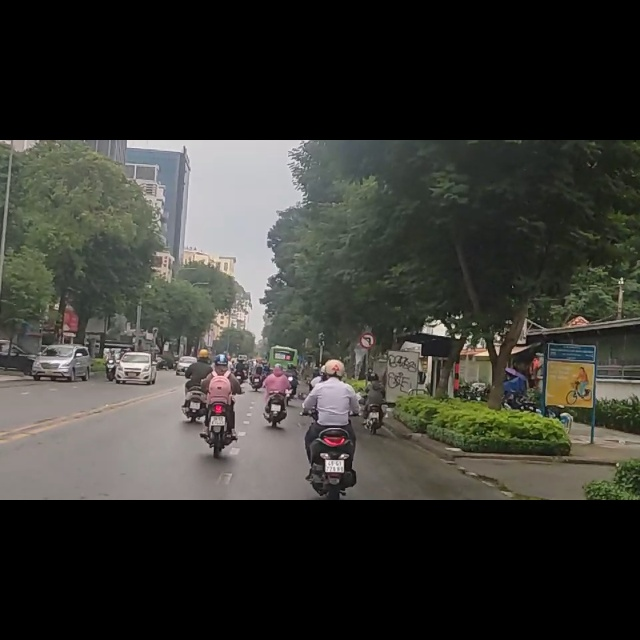bien_cam: (360, 343, 377, 369)
